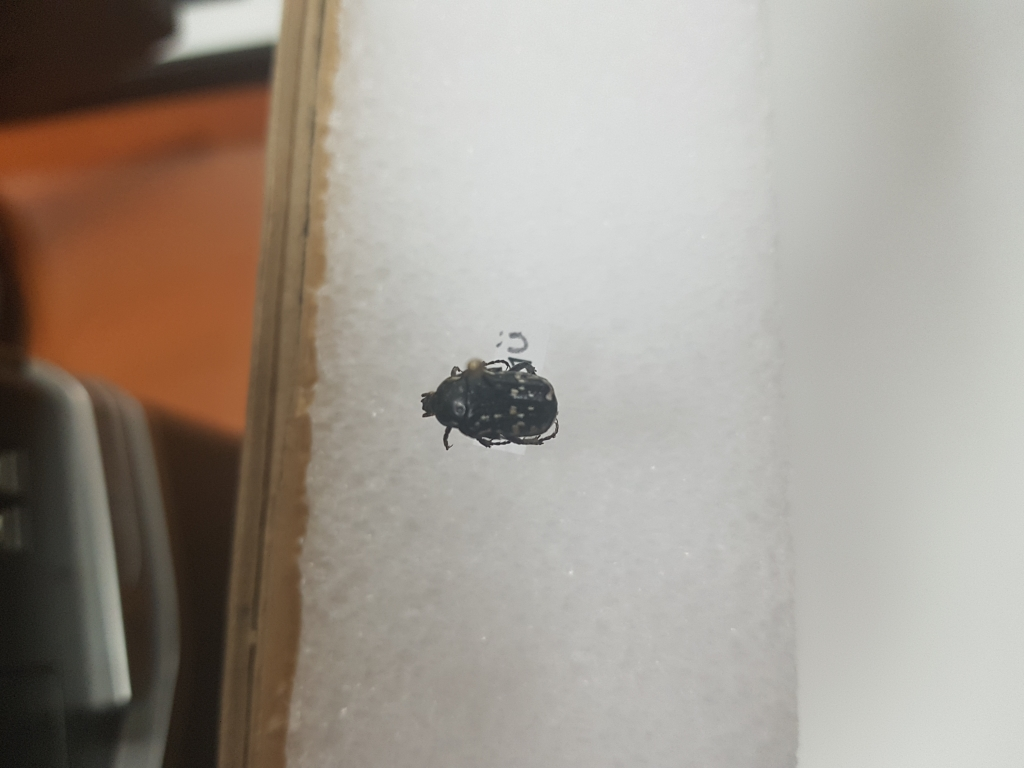Oxythyrea_albopicta: (425, 359, 565, 463)
